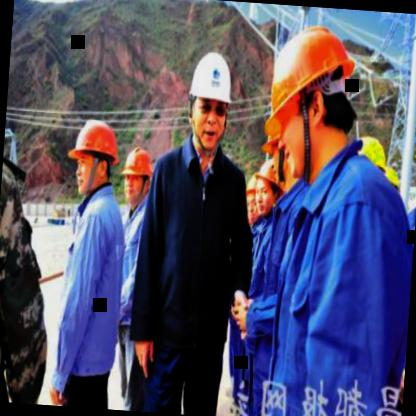helmet: (258, 13, 366, 177), (180, 43, 238, 160), (66, 113, 124, 200), (121, 146, 153, 206), (252, 158, 282, 218), (240, 172, 265, 234)
